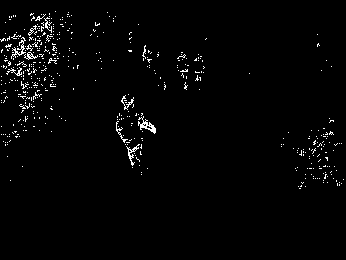person: (112, 94, 157, 176)
